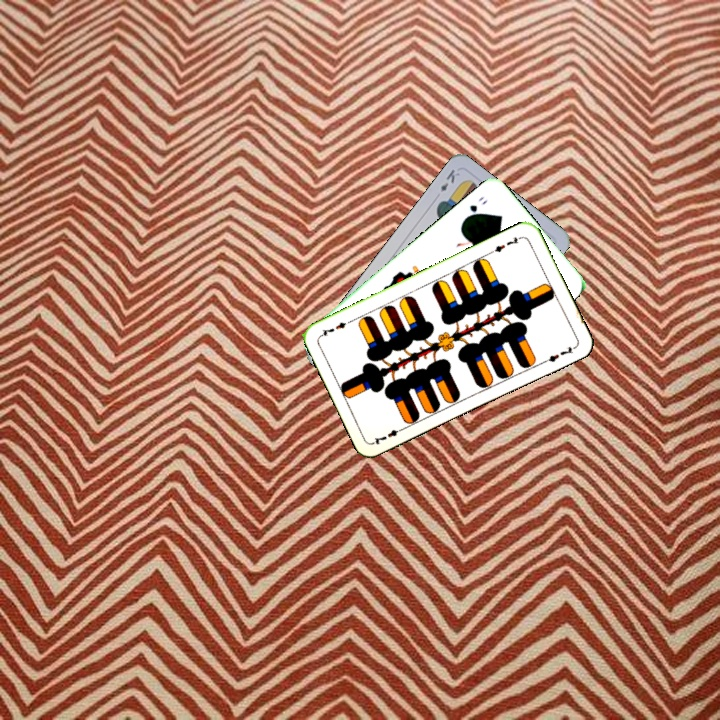E7: (487, 232, 525, 256), (370, 423, 408, 447)
EK: (436, 165, 462, 195)
GO: (461, 192, 490, 222)
